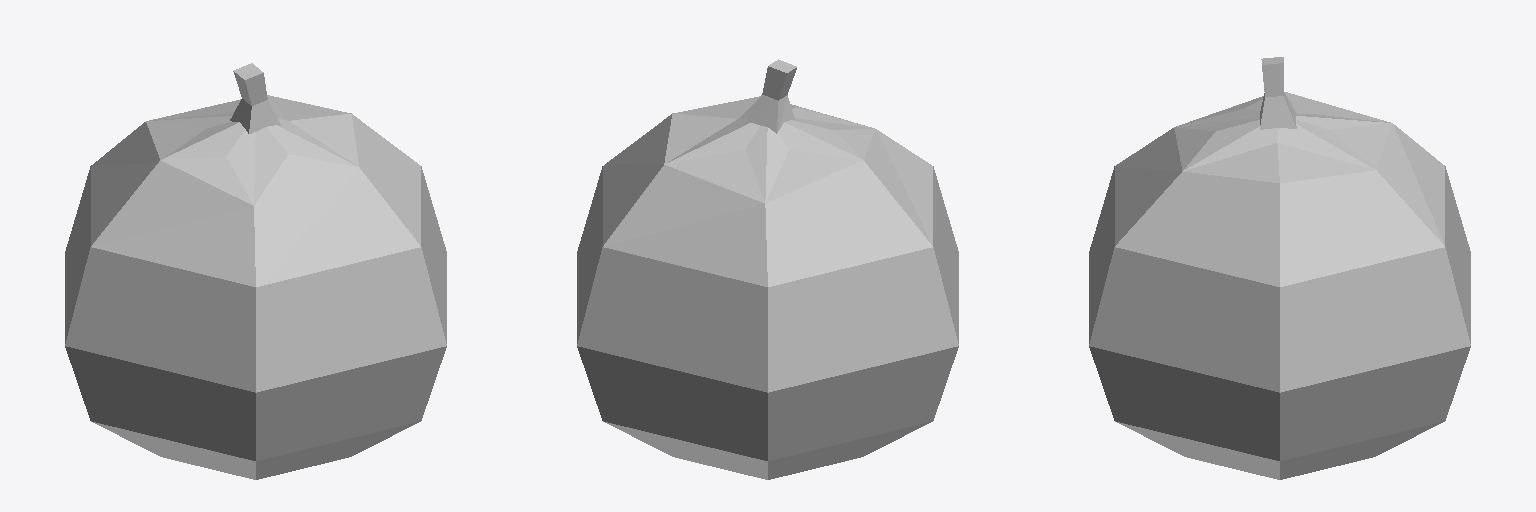
File: SM_Prop_Tomato_01.obj
The picture shows the model from 3 angles: view 1: azimuth 30°, elevation 25°; view 2: azimuth 150°, elevation 25°; view 3: azimuth 270°, elevation 25°; orthographic projection.
Bounding box in the file's own units: 14.03 × 13.47 × 12.15.